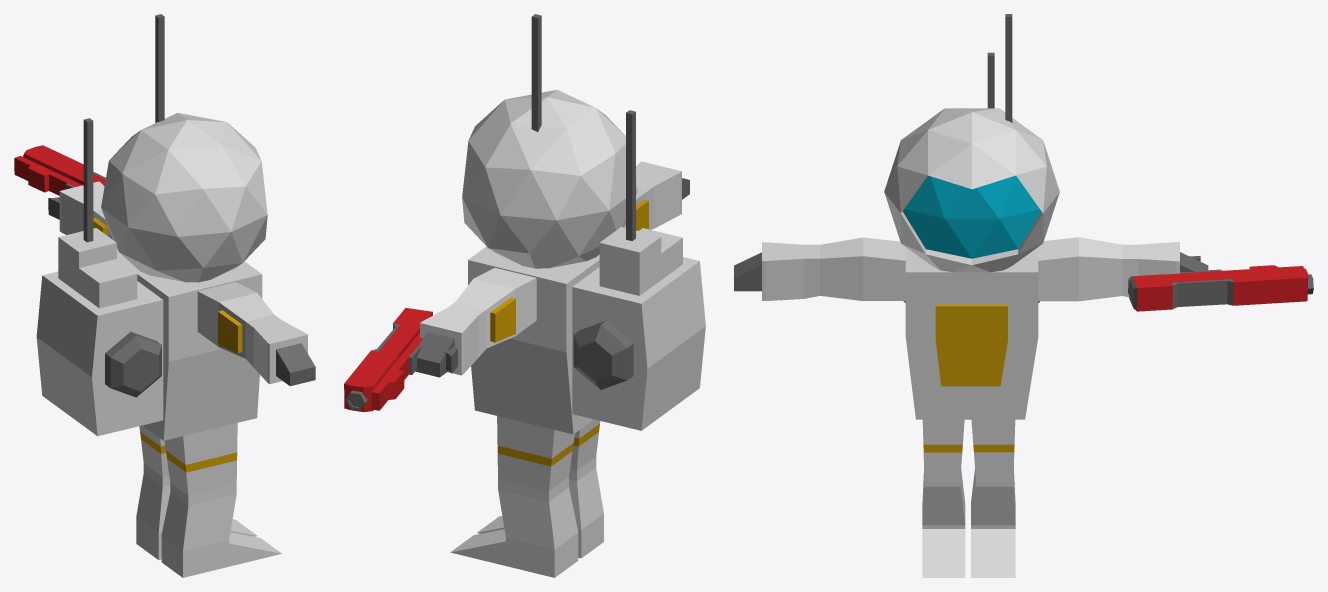
The model's file is gravity_soldier.fbx.
3 views of the same model, side by side, from view 1: azimuth 30°, elevation 25°; view 2: azimuth 150°, elevation 25°; view 3: azimuth 270°, elevation 25° (orthographic). The views are drawn at different scales.
Visible parts, largest first — view 1: Icosphere, Cube.001, Cube, Cube.008, Cube.006, Cube.002, Cube.007, Cylinder, Cube.009, Cube.005, Cube.003, Cube.004; view 2: Icosphere, Cube.001, Cube, Cube.007, Cube.005, Cube.009, Cube.002, Cube.008, Cylinder, Cube.006, Cube.003, Cube.004; view 3: Icosphere, Cube, Cube.006, Cube.005, Cube.007, Cube.008, Cube.009, Cube.004.
Part boxes in pixels (bbox=[...]): Icosphere: bbox=[101, 113, 267, 282]; Cube.001: bbox=[36, 271, 163, 436]; Cube: bbox=[117, 248, 262, 440]; Cube.008: bbox=[161, 423, 281, 577]; Cube.006: bbox=[197, 282, 315, 386]; Cube.002: bbox=[58, 228, 137, 308]; Cube.007: bbox=[136, 425, 257, 559]; Cylinder: bbox=[105, 331, 161, 397]; Cube.009: bbox=[14, 145, 105, 219]; Cube.005: bbox=[59, 181, 112, 239]; Cube.003: bbox=[83, 118, 93, 242]; Cube.004: bbox=[155, 14, 164, 122]; Icosphere: bbox=[462, 89, 637, 268]; Cube.001: bbox=[572, 257, 705, 430]; Cube: bbox=[468, 246, 599, 434]; Cube.007: bbox=[450, 416, 578, 577]; Cube.005: bbox=[415, 268, 536, 377]; Cube.009: bbox=[344, 308, 457, 411]; Cube.002: bbox=[599, 227, 682, 295]; Cube.008: bbox=[477, 419, 603, 558]; Cylinder: bbox=[573, 320, 633, 389]; Cube.006: bbox=[623, 161, 689, 230]; Cube.003: bbox=[626, 110, 635, 240]; Cube.004: bbox=[531, 14, 541, 131]; Icosphere: bbox=[884, 108, 1059, 272]; Cube: bbox=[905, 247, 1038, 419]; Cube.006: bbox=[734, 237, 905, 300]; Cube.005: bbox=[1038, 237, 1208, 301]; Cube.007: bbox=[971, 419, 1015, 577]; Cube.008: bbox=[922, 419, 965, 577]; Cube.009: bbox=[1128, 256, 1313, 311]; Cube.004: bbox=[1005, 14, 1012, 122].
Bounding box in the file's own units: 335 × 872 × 874.
